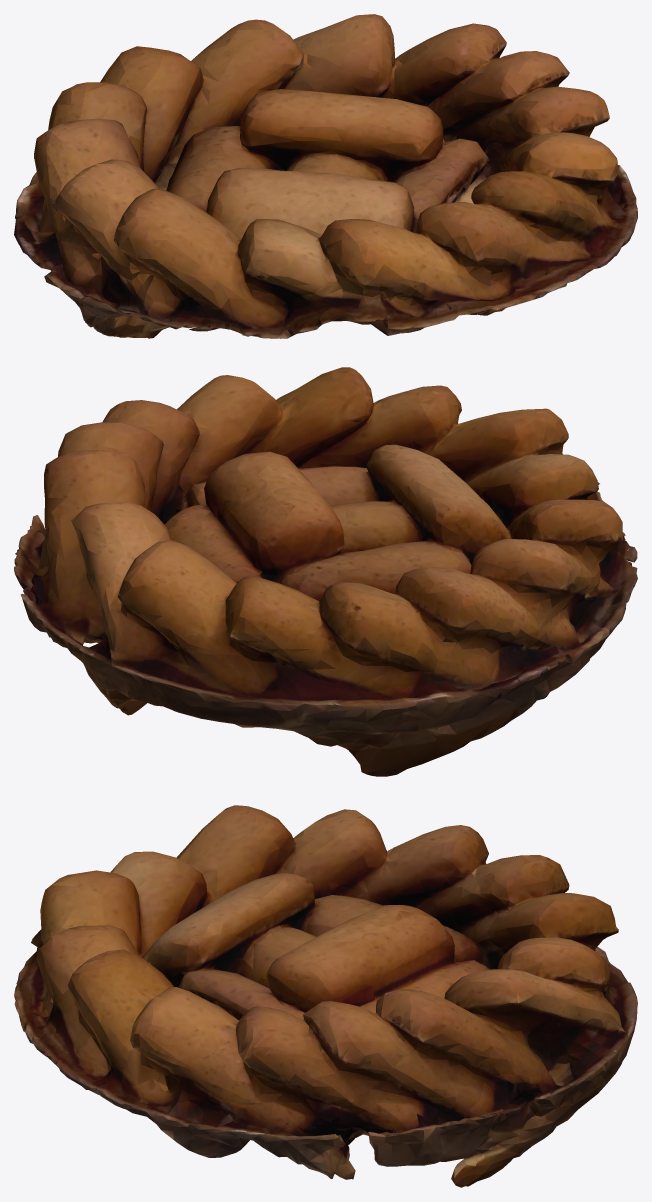
The model's file is 3DModel_LowPoly.obj.
3 renders of one model, top to bottom at view 1: azimuth 30°, elevation 25°; view 2: azimuth 150°, elevation 25°; view 3: azimuth 270°, elevation 25°, orthographic.
Parts seen in each view (by area): view 1: 3DModel_LowPoly; view 2: 3DModel_LowPoly; view 3: 3DModel_LowPoly.
Part boxes in pixels (x1,y1,x2,y2): 3DModel_LowPoly: (14, 14, 637, 338); 3DModel_LowPoly: (14, 367, 637, 776); 3DModel_LowPoly: (14, 805, 637, 1187).
Size of the model in its own units: 1.33 by 0.5651 by 1.33.
1 material, 1 textured.
